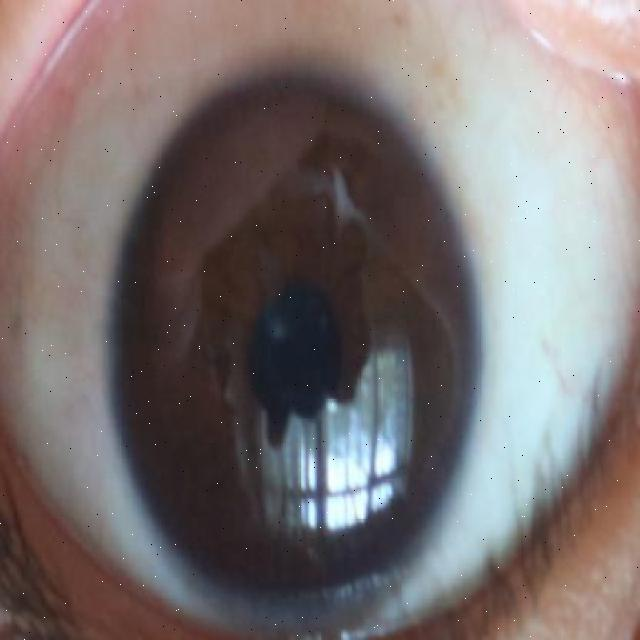Normal: (110, 78, 483, 611)
